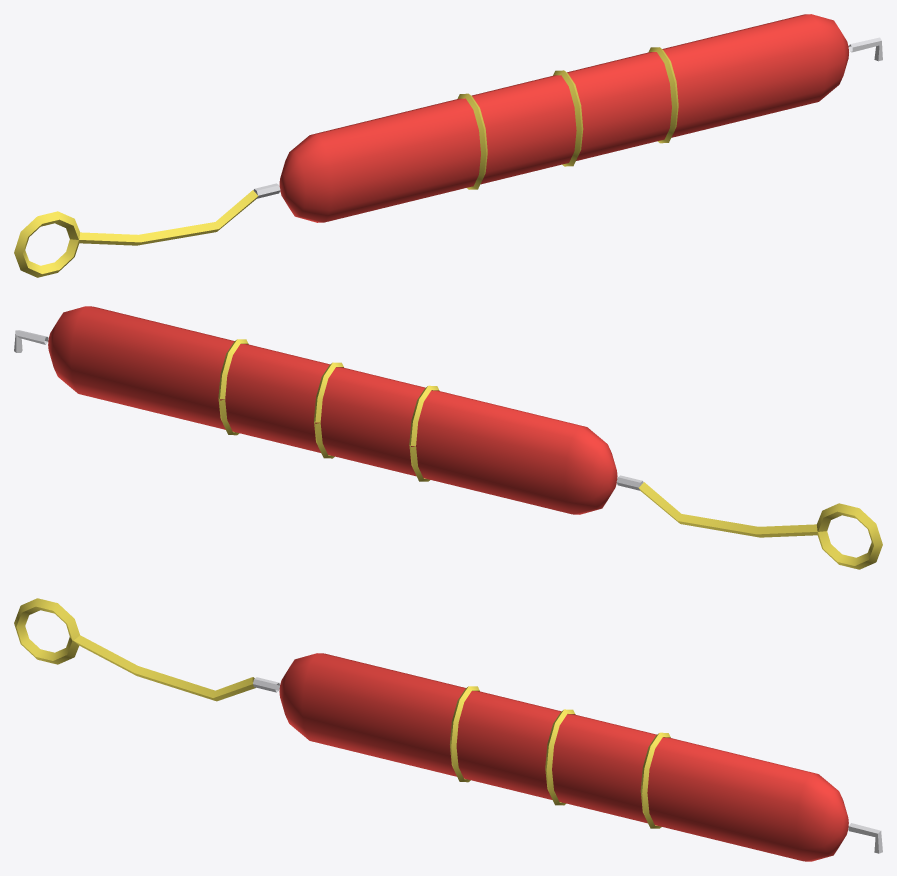
The model's file is prop_rescue_tube.glb.
The picture shows the model from 3 angles, top to bottom: view 1: azimuth 30°, elevation 25°; view 2: azimuth 150°, elevation 25°; view 3: azimuth 330°, elevation 25°; orthographic projection.
Visible parts, largest first — view 1: RescueTube; view 2: RescueTube; view 3: RescueTube.
Boxes of the visible parts, <box> form: RescueTube: <box>14,14,882,277</box>; RescueTube: <box>14,306,882,569</box>; RescueTube: <box>14,598,882,861</box>.
Size of the model in its own units: 1.55 by 0.1635 by 0.1079.
